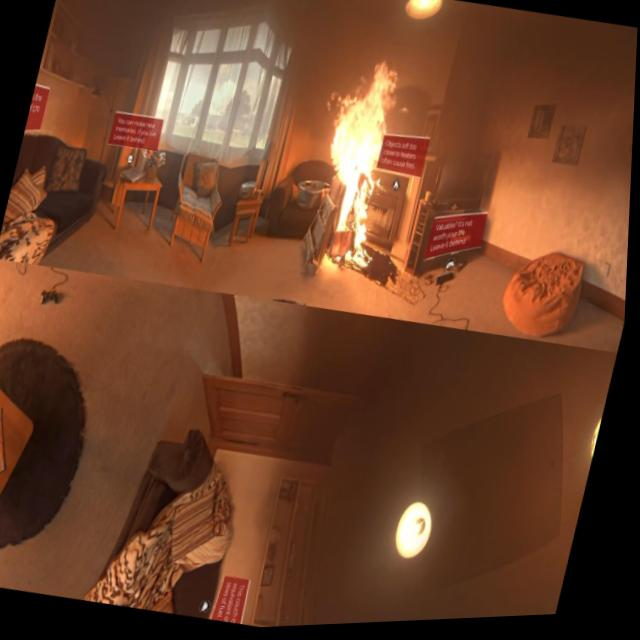fire: (293, 55, 418, 287)
